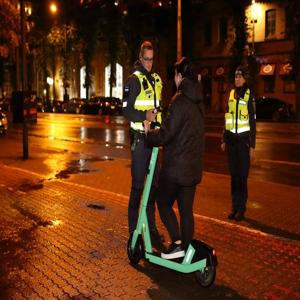human on a scooter: (126, 56, 217, 289)
